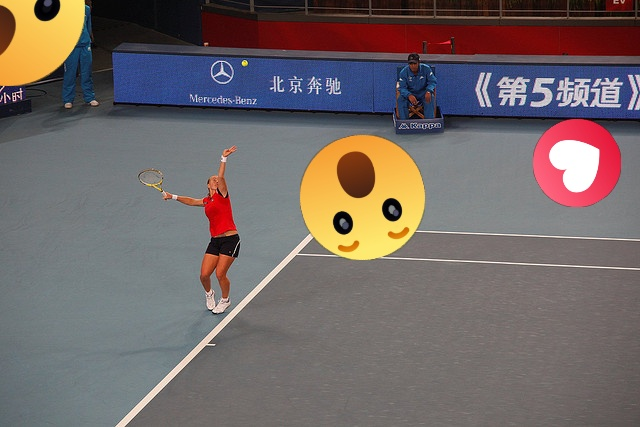love: (533, 119, 621, 207)
wow: (300, 135, 425, 260), (0, 0, 85, 86)
